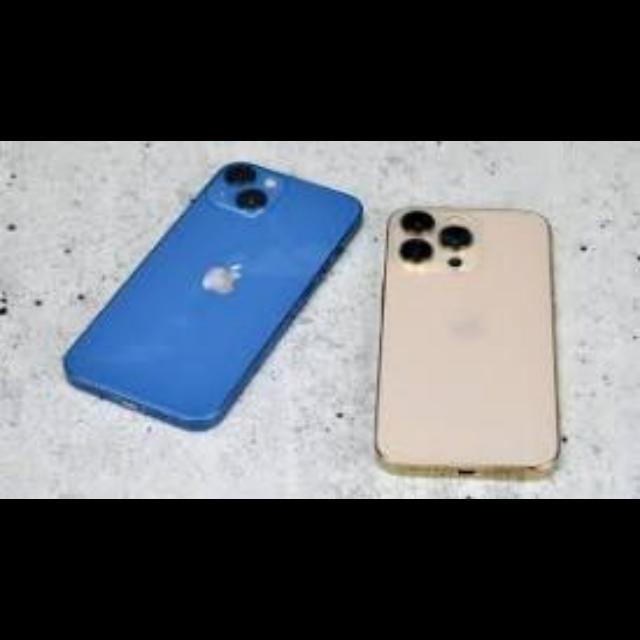phone: (43, 152, 355, 434), (381, 189, 557, 471)
